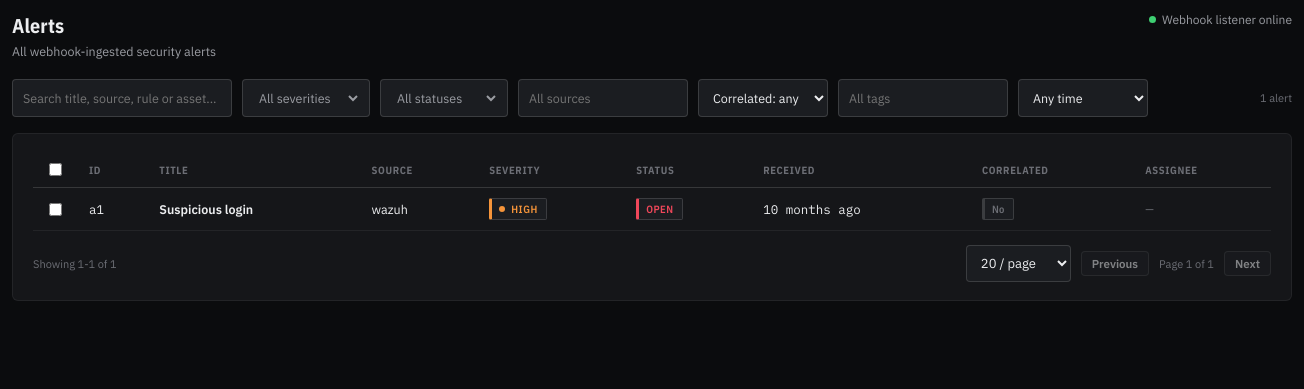
Scenario: AlertsListPage › bulk status-change › selecting a row shows the bulk toolbar with a count, and it disappears on clear
The width and height of the screenshot is (1304, 389).
Check: the text "Suspicious login" is shown, box top-left (147, 188), bottom-right (360, 230)
Check: the text "1 selected" is not shown
Click the checkbox named "Select alert" at (56, 209), box top-left (49, 202), bottom-right (62, 216)
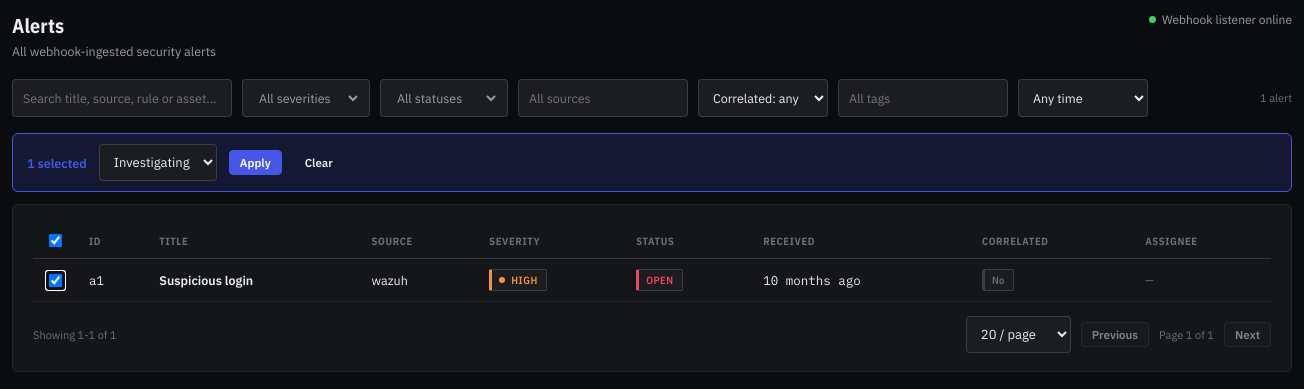
Check: the text "1 selected" is shown, box top-left (27, 154), bottom-right (87, 170)
Click the button "Clear" at (319, 162), box top-left (294, 150), bottom-right (344, 175)
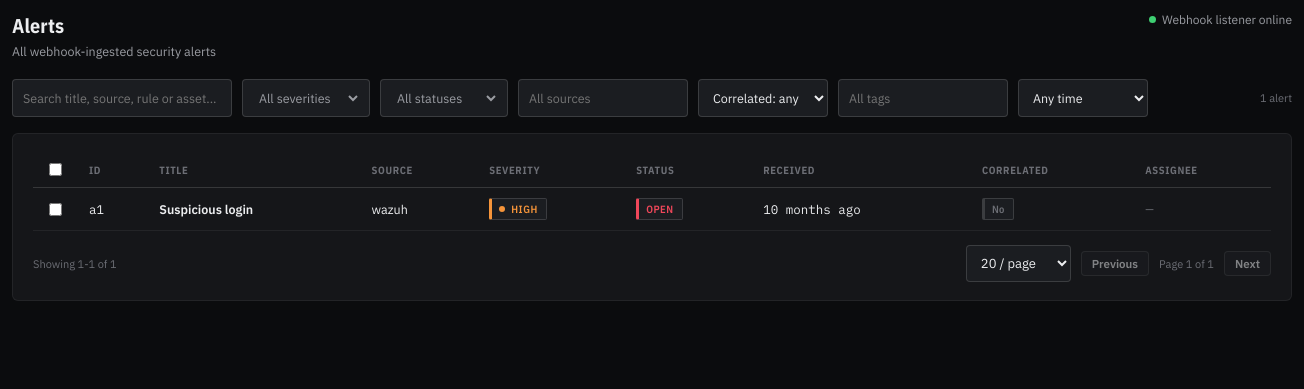
Check: the text "1 selected" is gone
